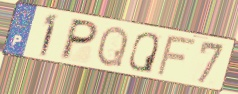1: (40, 13, 60, 59)
7: (197, 39, 227, 86)
F: (154, 35, 199, 78)
P: (57, 17, 101, 62)
Q: (95, 25, 130, 68), (127, 31, 160, 75)
